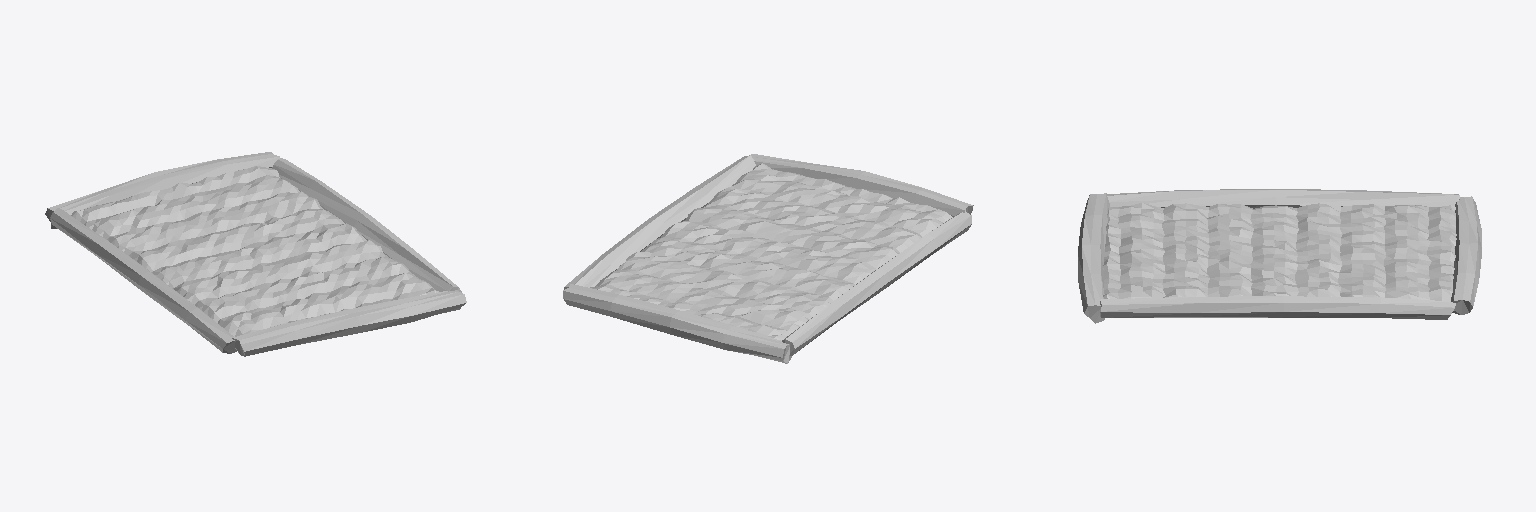
The model's file is Field.obj.
3 renders of one model, left to right at view 1: azimuth 30°, elevation 25°; view 2: azimuth 150°, elevation 25°; view 3: azimuth 270°, elevation 25°, orthographic.
Parts seen in each view (by area): view 1: Cube.002_Cube.000; view 2: Cube.002_Cube.000; view 3: Cube.002_Cube.000.
Part boxes in pixels (x1,y1,x2,y2): Cube.002_Cube.000: (45,152,466,356); Cube.002_Cube.000: (563,154,973,363); Cube.002_Cube.000: (1078,189,1481,323).
Size of the model in its own units: 13.45 by 1.39 by 19.55.